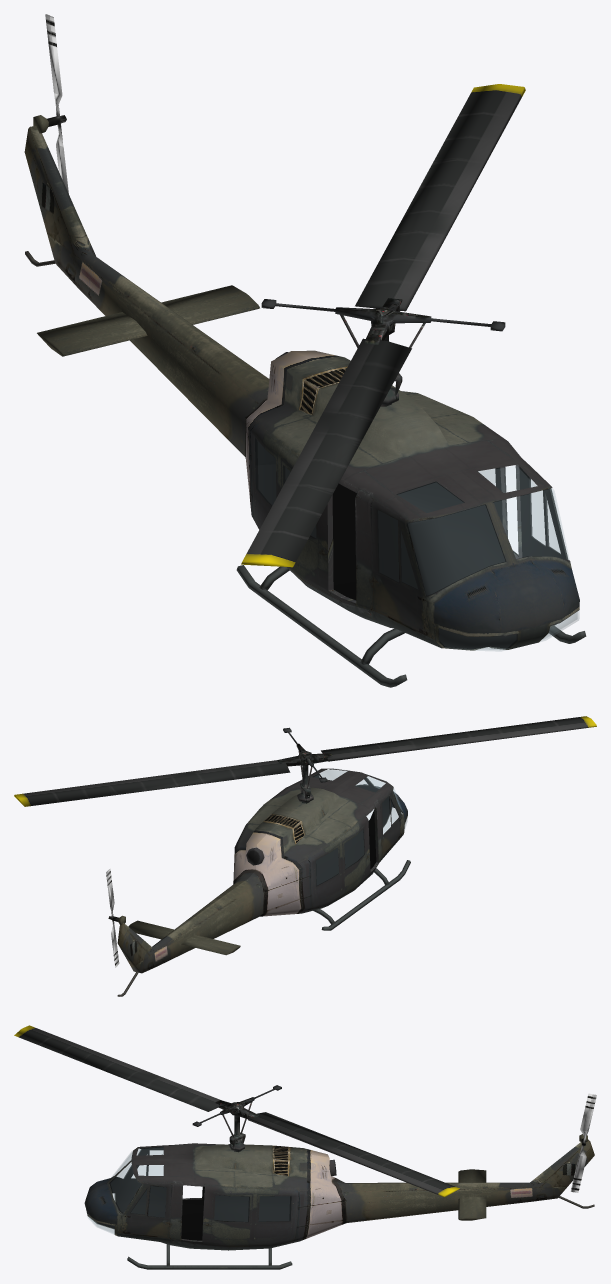
Rendered from Helicopteroanimacion.fbx.
3 views of the same model, one above another, from view 1: azimuth 30°, elevation 25°; view 2: azimuth 150°, elevation 25°; view 3: azimuth 270°, elevation 25° (orthographic). The views are drawn at different scales.
Parts seen in each view (by area): view 1: Helicoptero, helice, helice1; view 2: Helicoptero, helice, helice1; view 3: Helicoptero, helice, helice1.
Part boxes in pixels (box(x1,y1,x2,y2)): Helicoptero: box(24, 115, 586, 687); helice: box(241, 84, 525, 567); helice1: box(45, 14, 68, 193); Helicoptero: box(117, 768, 410, 996); helice: box(14, 716, 596, 806); helice1: box(106, 869, 119, 967); Helicoptero: box(84, 1134, 594, 1269); helice: box(14, 1025, 459, 1197); helice1: box(570, 1093, 596, 1192).
Bounding box in the file's own units: 649 × 281 × 936.
Materials: 3 (1 with a texture image).
